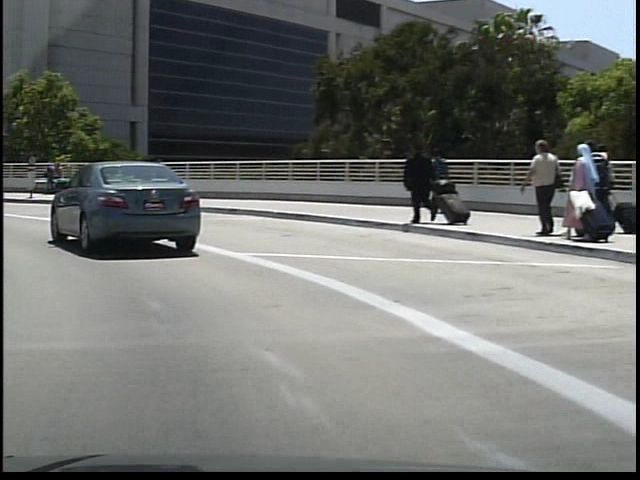person: (516, 132, 561, 240), (398, 139, 438, 224), (425, 144, 453, 217)
